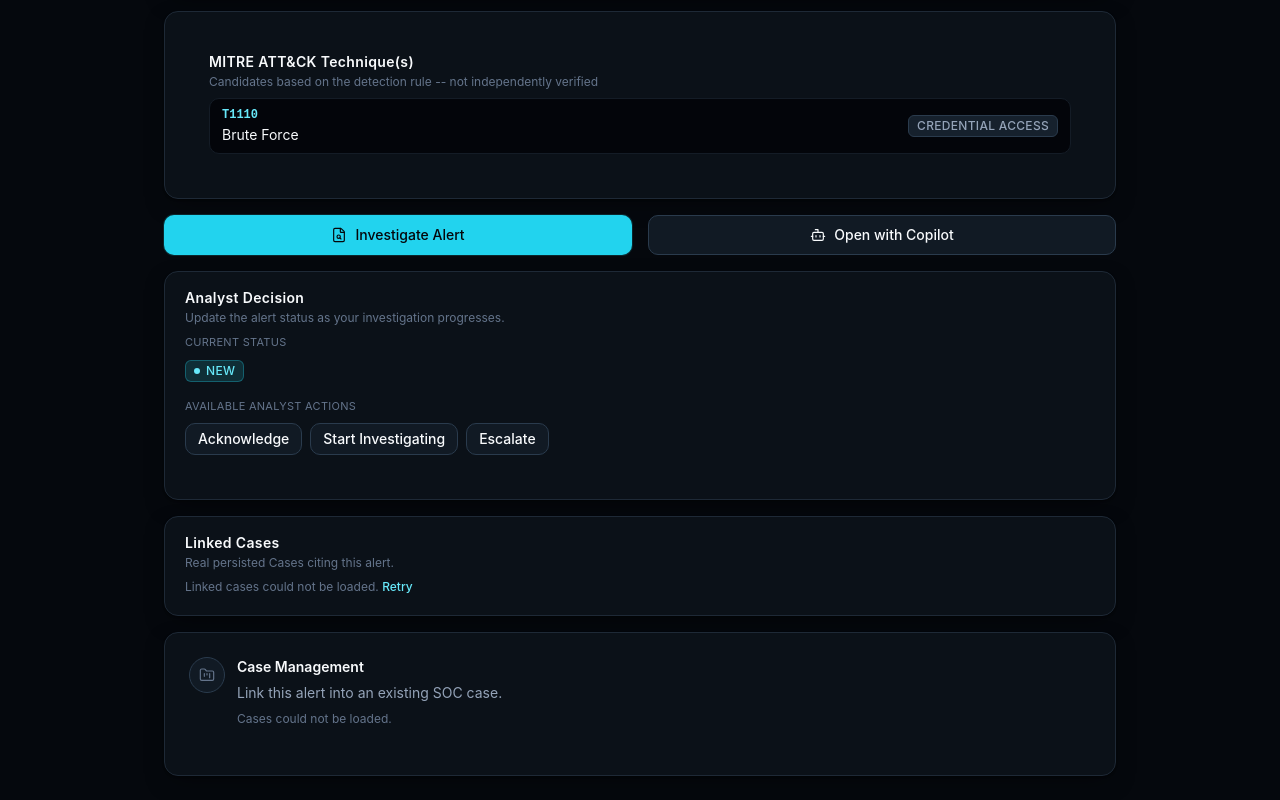
Step 12L: Alert Triage Workflow & Analyst Decision Center › 16. no automatic Copilot request occurs while rendering or updating status
(page scrolled)
What coordinates should you click on to do the following:
click the button "Acknowledge"
I would click on:
 (244, 438)
Its box is [185,422,302,454].
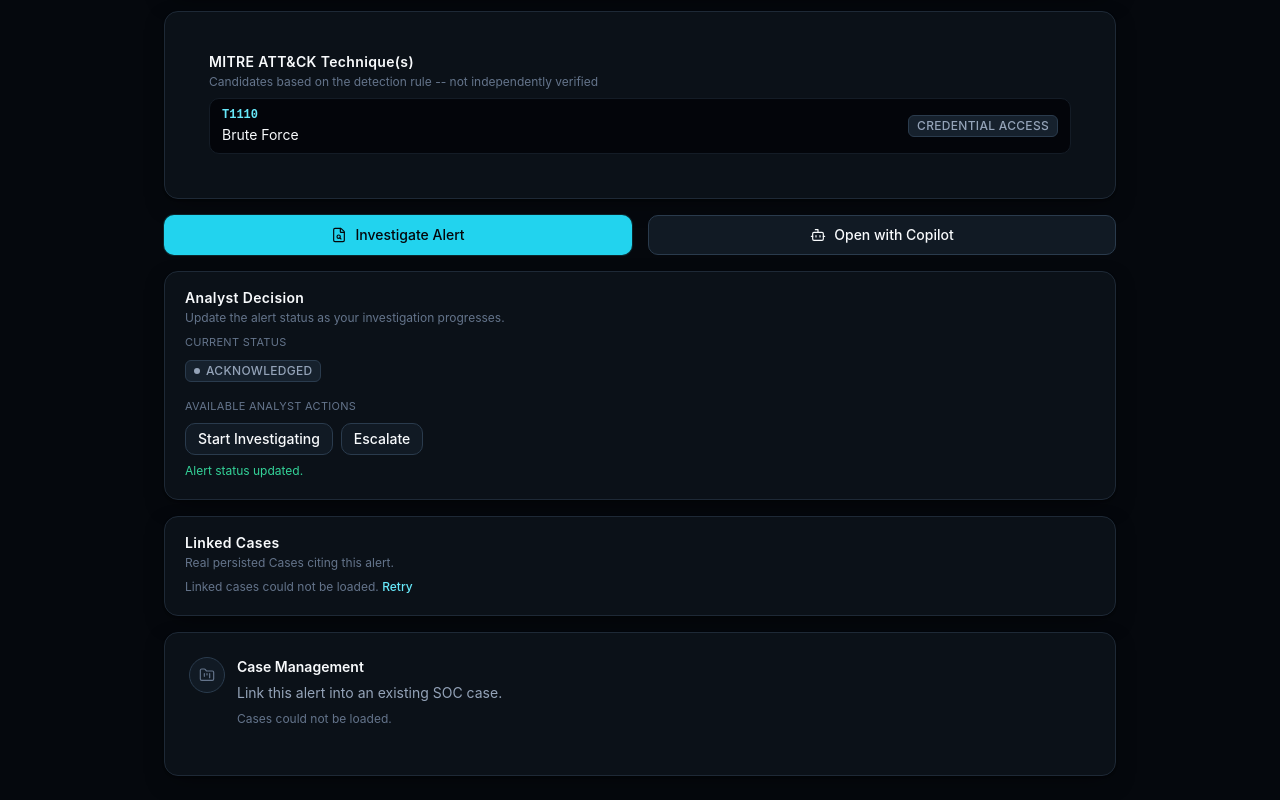
Result: the text "Alert status updated." is shown at [185,462,303,478]
